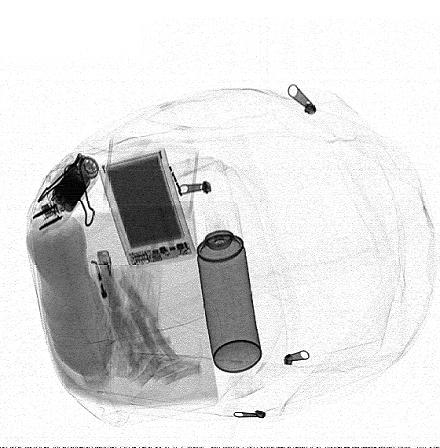Lighter: (83, 249, 132, 355)
Powerbank: (97, 147, 197, 269)
Sprayer: (192, 199, 263, 373)
